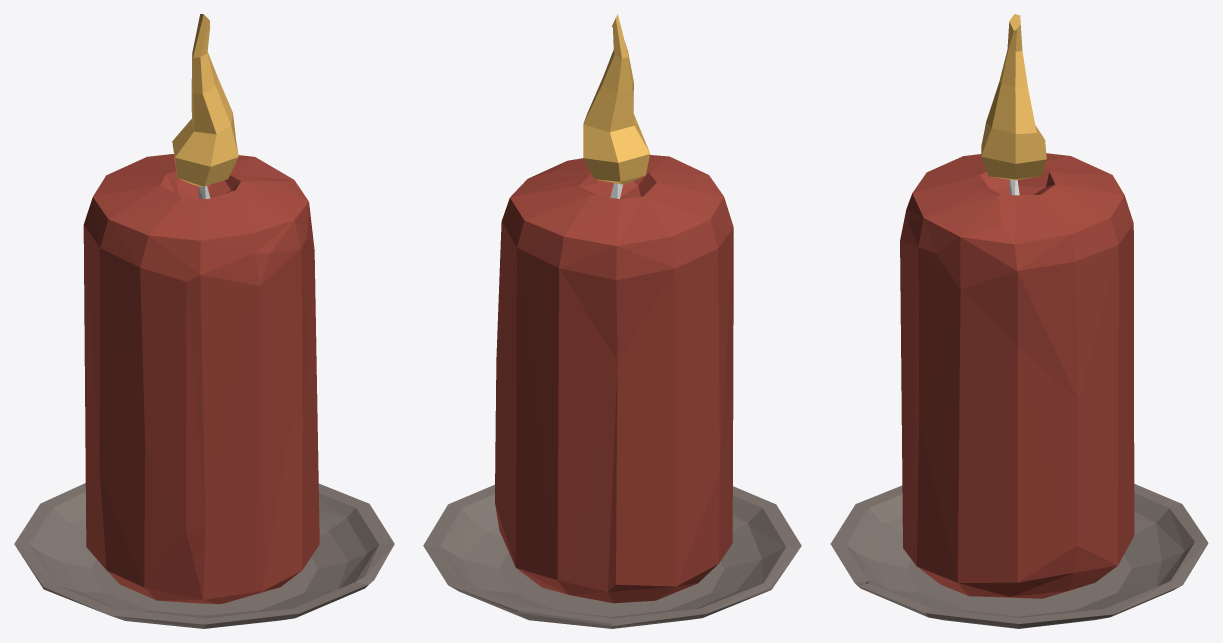
Rendered from WF_LP_HT_Props_Candle.003.fbx.
3 views of the same model, side by side, from view 1: azimuth 30°, elevation 25°; view 2: azimuth 150°, elevation 25°; view 3: azimuth 270°, elevation 25° (orthographic).
Parts seen in each view (by area): view 1: WF_LP_HT_Props_Candle.003; view 2: WF_LP_HT_Props_Candle.003; view 3: WF_LP_HT_Props_Candle.003.
Boxes of the visible parts, bbox=[...] form: WF_LP_HT_Props_Candle.003: bbox=[14, 14, 394, 628]; WF_LP_HT_Props_Candle.003: bbox=[423, 14, 801, 628]; WF_LP_HT_Props_Candle.003: bbox=[830, 14, 1208, 628].
Bounding box in the file's own units: 0.1512 × 0.248 × 0.1532.
